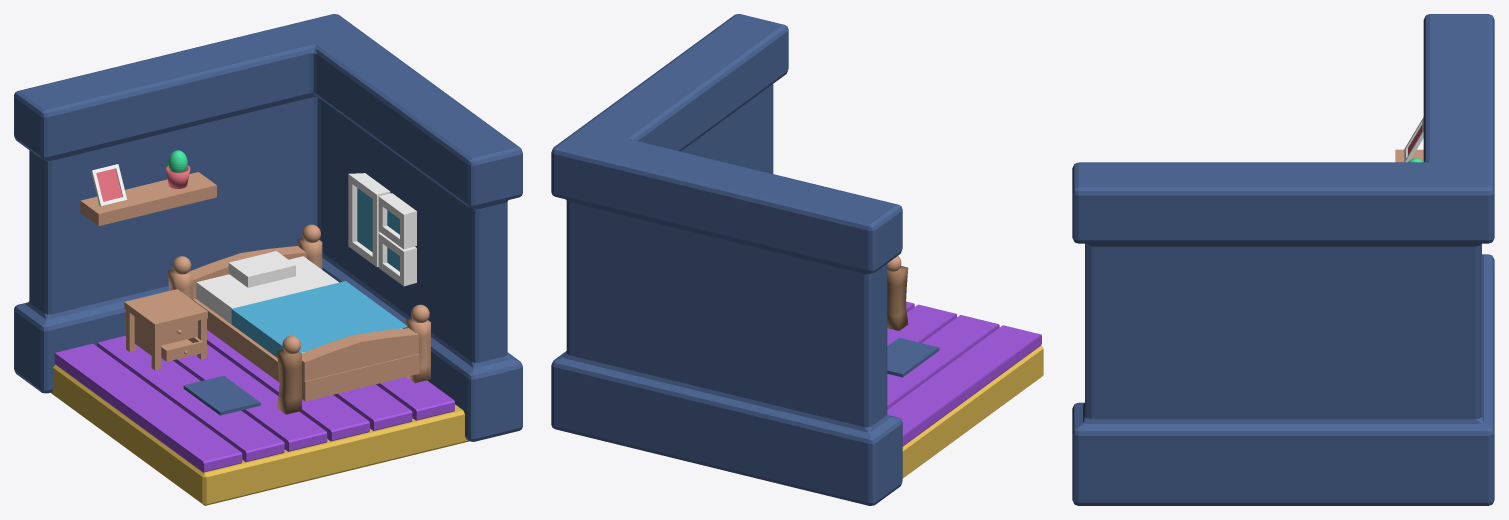
File: Cute.glb
The picture shows the model from 3 angles, left to right: view 1: azimuth 30°, elevation 25°; view 2: azimuth 150°, elevation 25°; view 3: azimuth 270°, elevation 25°; orthographic projection. The views are drawn at different scales.
Parts seen in each view (by area): view 1: Cube, Plane.001, Plane, Plane.010, Cube.001, Plane.011, Plane.002, Plane.003, Plane.009, Cube.003, Plane.013, Cube.004 (+4 smaller); view 2: Cube, Plane.001, Plane, Plane.013, Plane.004; view 3: Cube.
Part boxes in pixels (x1,y1,x2,y2): Cube: (14, 14, 522, 441); Plane.001: (54, 330, 454, 472); Plane: (50, 365, 468, 505); Plane.010: (231, 281, 407, 357); Cube.001: (348, 173, 416, 286); Plane.011: (124, 289, 207, 370); Plane.002: (192, 298, 419, 401); Plane.003: (302, 328, 418, 381); Plane.009: (196, 256, 401, 357); Cube.003: (80, 172, 216, 225); Plane.013: (183, 375, 260, 415); Cube.004: (228, 251, 295, 287); Cube: (551, 14, 902, 505); Plane.001: (887, 301, 1041, 446); Plane: (902, 345, 1043, 478); Plane.013: (887, 337, 939, 377); Plane.004: (887, 266, 908, 330); Cube: (1072, 14, 1494, 505).
Size of the model in its own units: 2.4 by 2.02 by 2.4.
